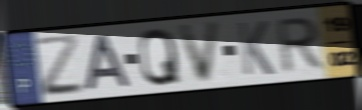A: (83, 32, 133, 92)
K: (235, 19, 277, 78)
Q: (137, 26, 183, 89)
R: (276, 14, 328, 76)
V: (177, 19, 224, 86)
Z: (32, 32, 87, 100)
